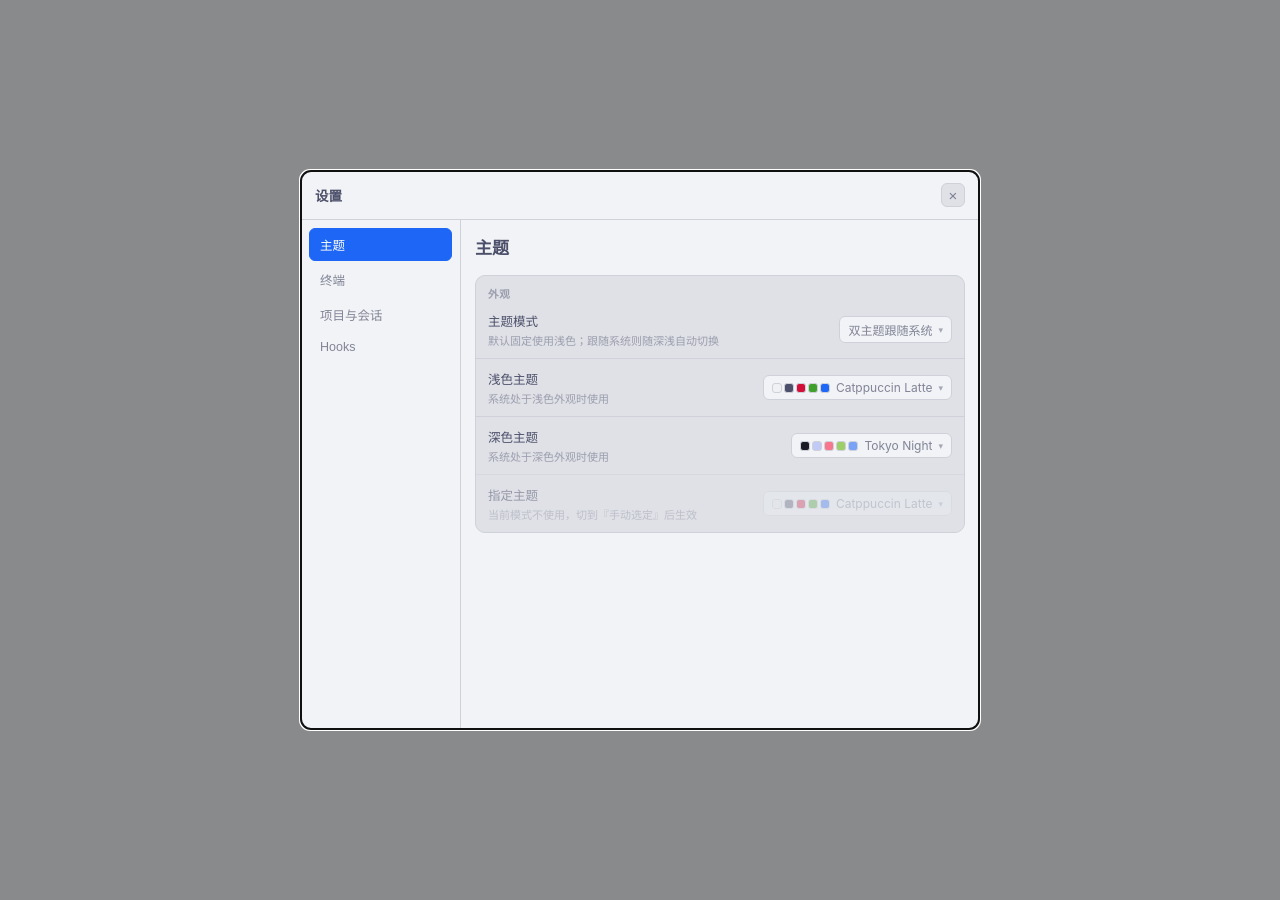
SettingsPanel › 分类导航（左侧列表 + 右侧详情） › 点「终端」→ 右侧变成终端分区，且主题分区不再存在于 DOM 中
The width and height of the screenshot is (1280, 900).
Expected: the element with class "appearance-section" is shown, [475,275,965,533]
Click the button "终端" at (380, 280), box [309,263,452,296]
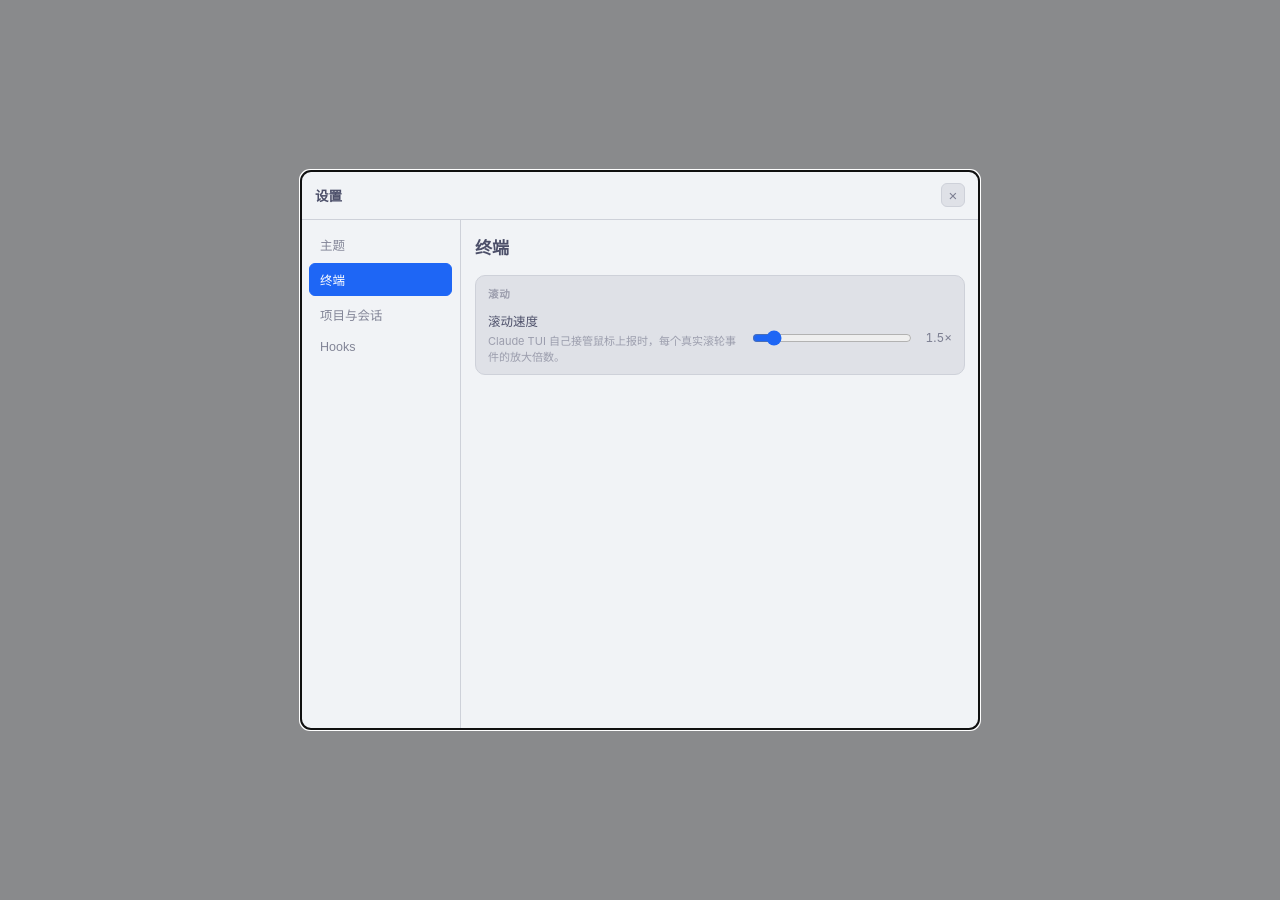
Now the element with class "terminal-section" is shown, box [475,275,965,375]
Now the element with class "appearance-section" is gone
